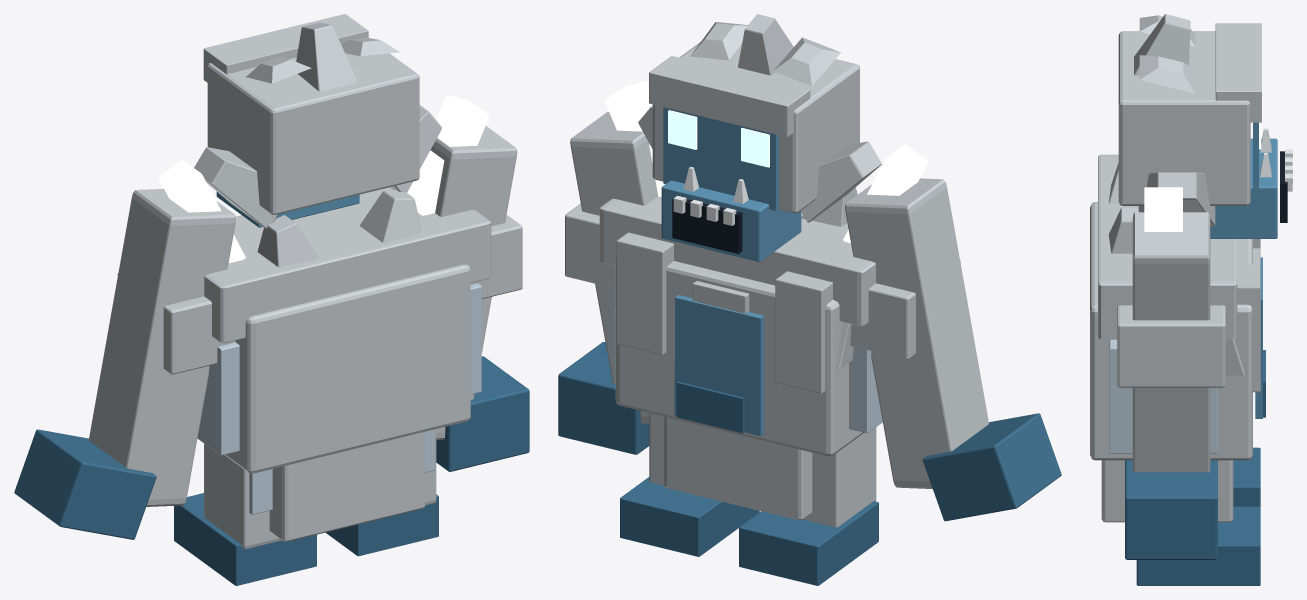
File: yeti.glb
The picture shows the model from 3 angles, left to right: view 1: azimuth 30°, elevation 25°; view 2: azimuth 150°, elevation 25°; view 3: azimuth 270°, elevation 25°; orthographic projection. The views are drawn at different scales.
Parts seen in each view (by area): view 1: body, head, arm.R, arm.L, leg.FR, leg.FL; view 2: body, head, arm.R, arm.L, leg.FR, leg.FL; view 3: body, head, arm.L, leg.FL, leg.FR.
Boxes of the visible parts, left/top/right/bottom form: body: left=117, top=95, right=522, bottom=541; head: left=194, top=14, right=442, bottom=229; arm.R: left=14, top=189, right=235, bottom=539; arm.L: left=430, top=126, right=529, bottom=471; leg.FR: left=174, top=443, right=316, bottom=585; leg.FL: left=325, top=429, right=438, bottom=556; body: left=565, top=81, right=960, bottom=520; head: left=638, top=14, right=881, bottom=261; arm.R: left=845, top=178, right=1061, bottom=521; arm.L: left=558, top=112, right=657, bottom=454; leg.FR: left=739, top=427, right=878, bottom=585; leg.FL: left=620, top=413, right=759, bottom=556; body: left=1090, top=154, right=1265, bottom=522; head: left=1118, top=14, right=1292, bottom=238; arm.L: left=1125, top=212, right=1217, bottom=559; leg.FL: left=1136, top=506, right=1260, bottom=585; leg.FR: left=1233, top=447, right=1260, bottom=506.
Size of the model in its own units: 0.9388 by 1 by 0.354.
